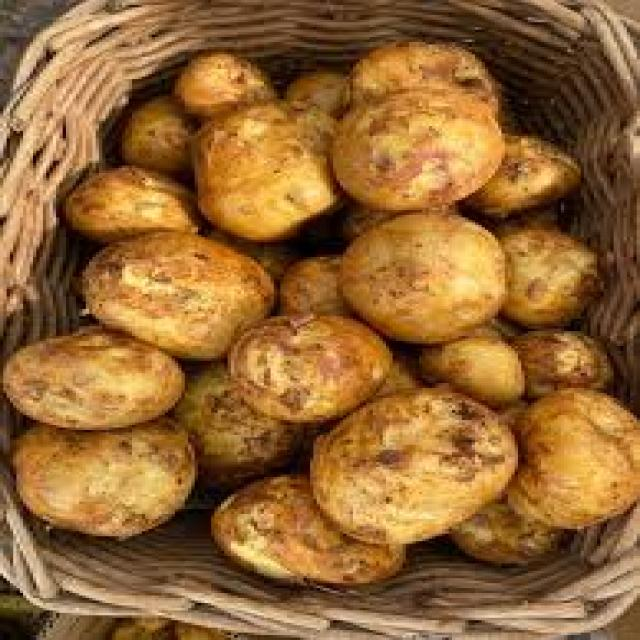Potato: (304, 383, 519, 551), (67, 222, 284, 362), (325, 199, 527, 335), (0, 415, 203, 548), (331, 82, 534, 214), (203, 472, 419, 592), (178, 98, 348, 242), (0, 318, 191, 437), (509, 393, 640, 542), (220, 307, 382, 411), (54, 154, 224, 248), (473, 216, 603, 337), (454, 121, 582, 217), (103, 93, 240, 174), (156, 48, 302, 124), (419, 322, 536, 397)
